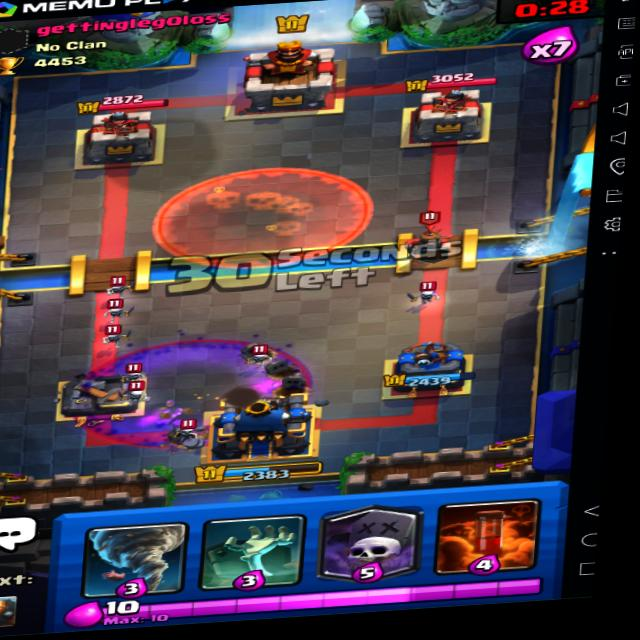graveyard: (74, 321, 322, 460)
poison: (152, 159, 373, 273)
royal-recruits: (398, 211, 463, 266)
skeleton: (170, 414, 207, 443), (249, 337, 282, 368), (112, 359, 153, 383), (96, 324, 132, 351), (114, 380, 149, 407), (99, 298, 134, 325), (103, 270, 131, 298), (411, 281, 441, 303)
